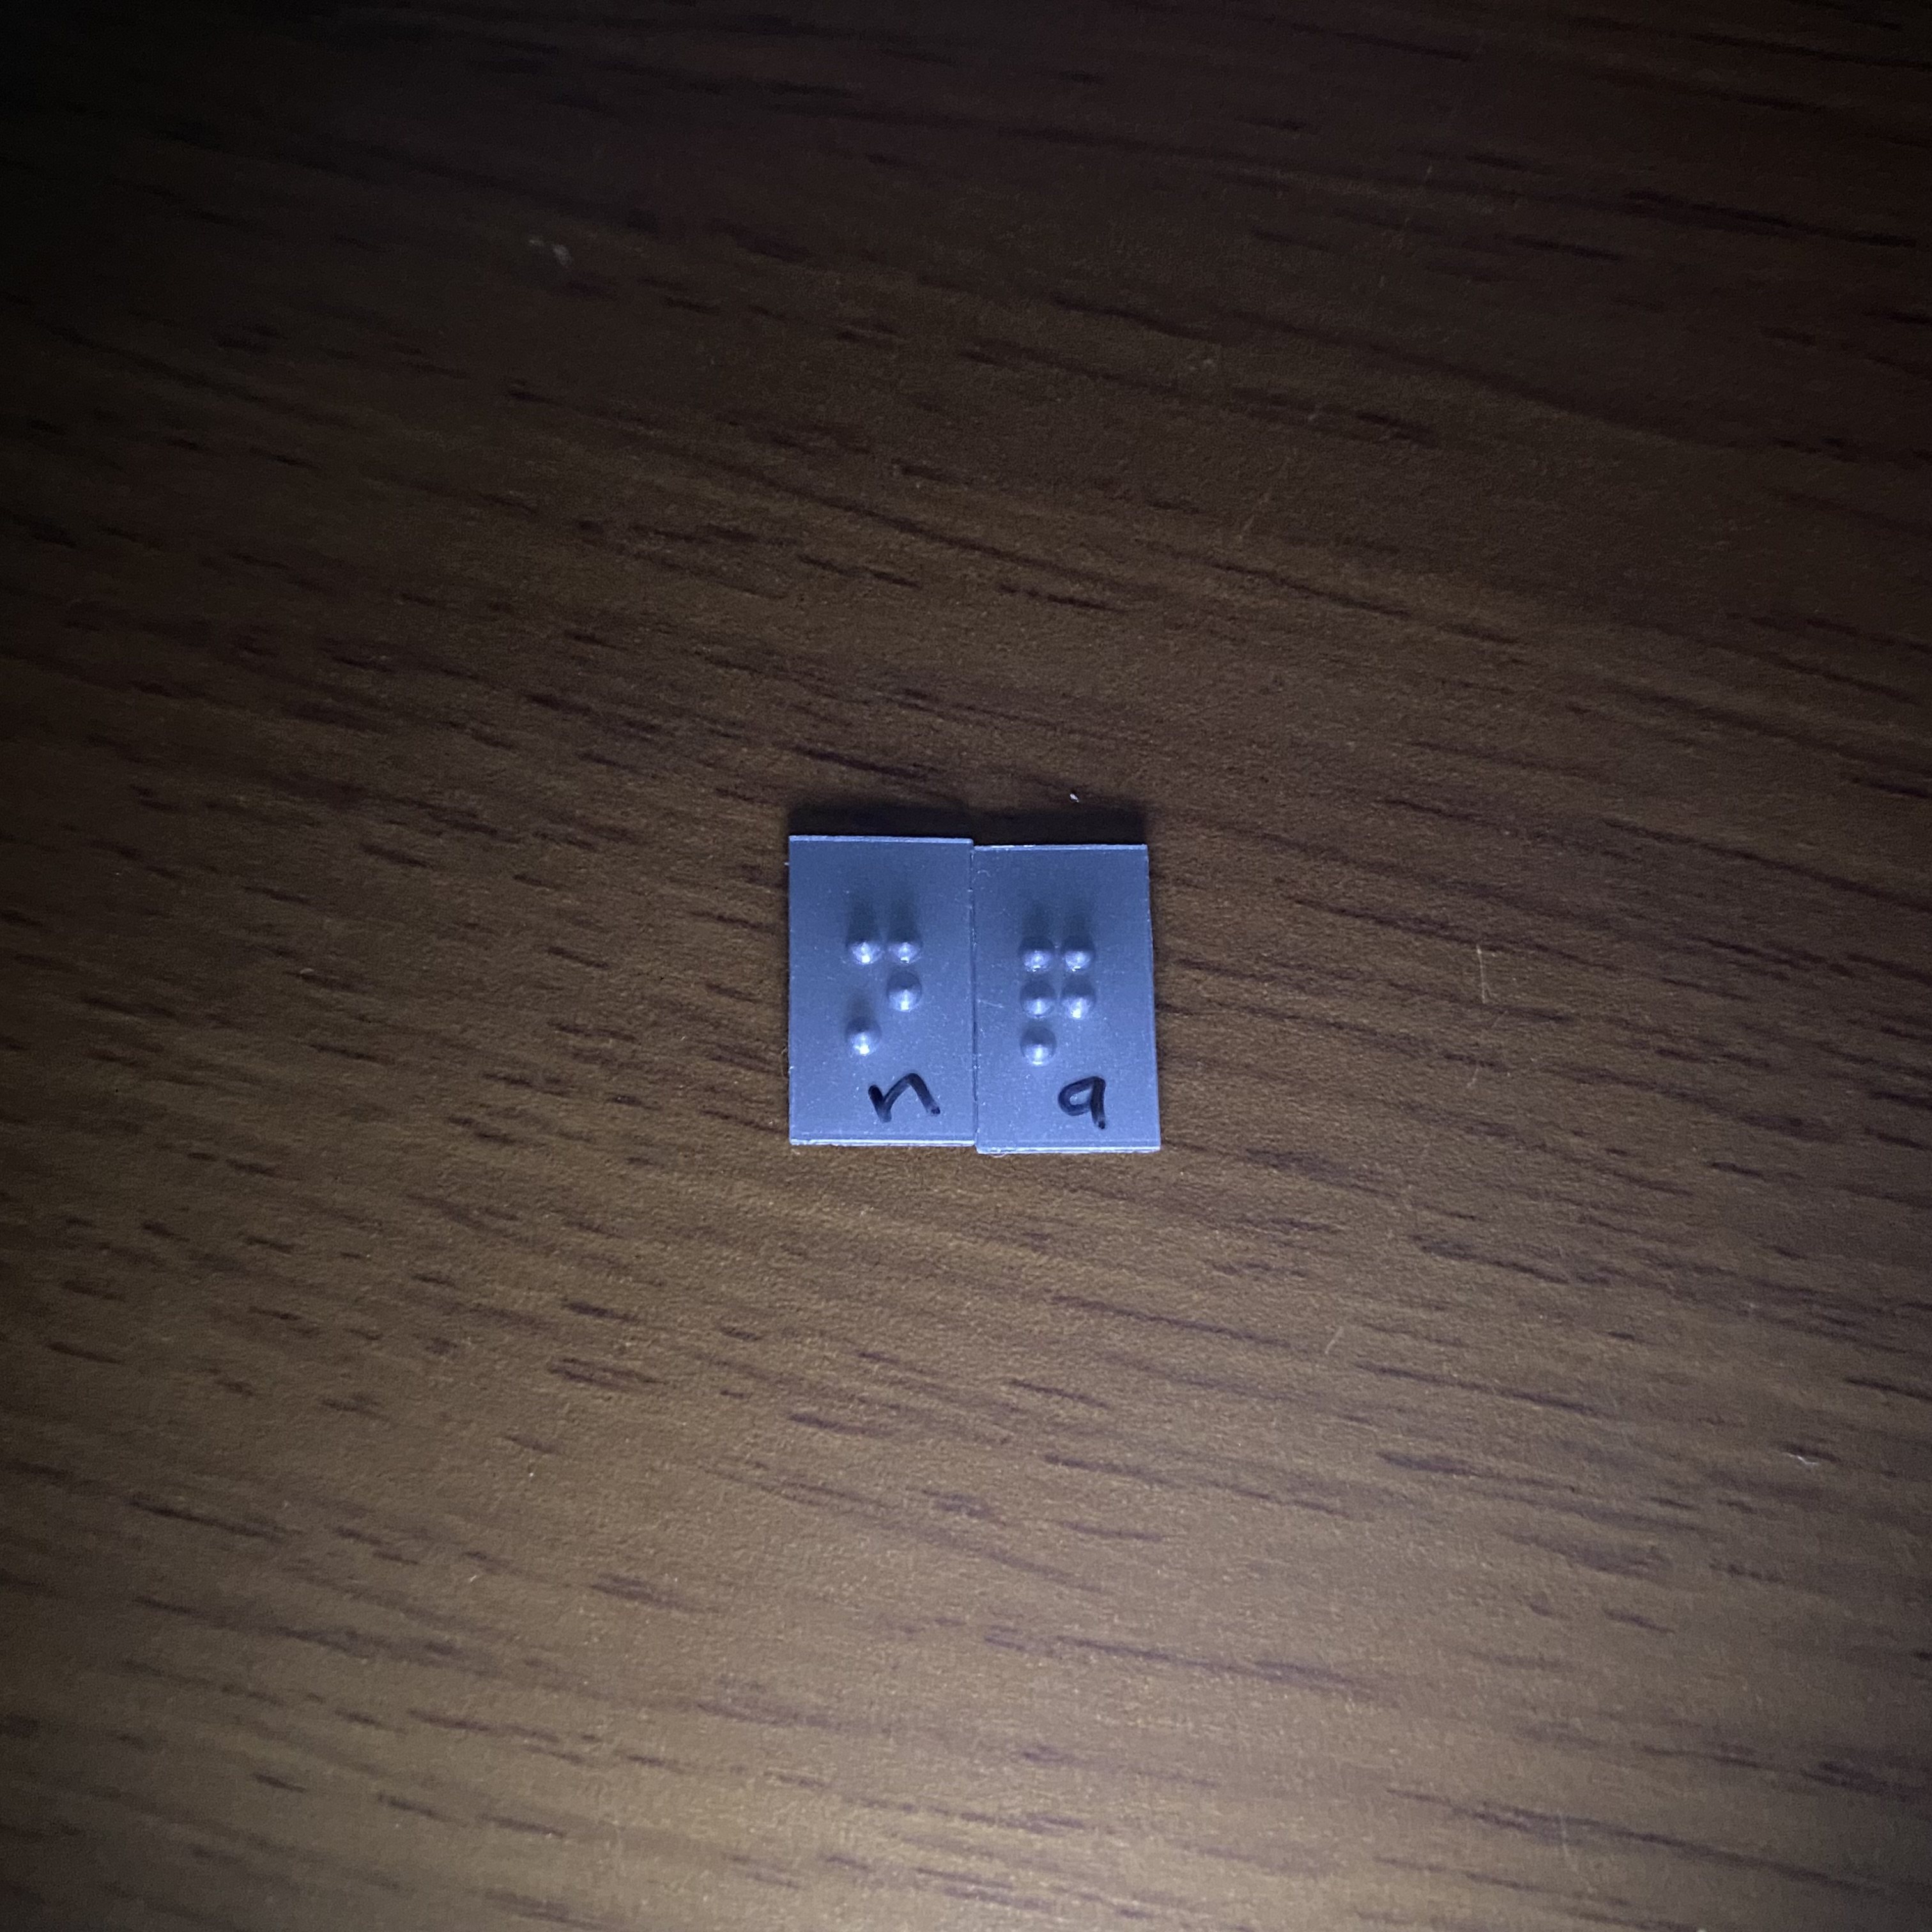n: (831, 896, 952, 1062)
q: (1009, 919, 1113, 1064)
